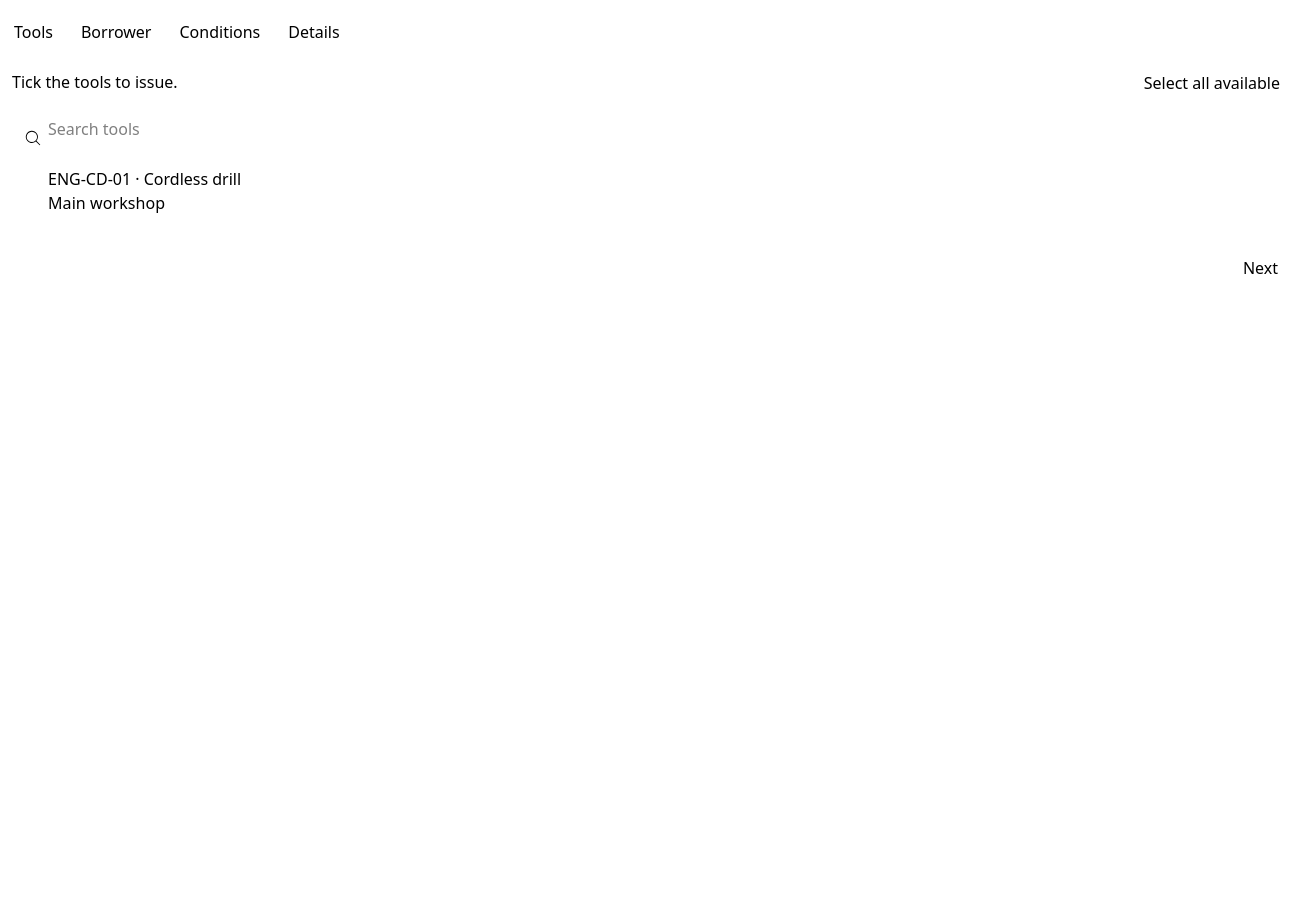
BulkIssueForm borrower step › empty submit jumps to the failing step and focuses its message
This screenshot has width=1304, height=912.
Click the tab "Details" at (314, 32), box [286,12,342,52]
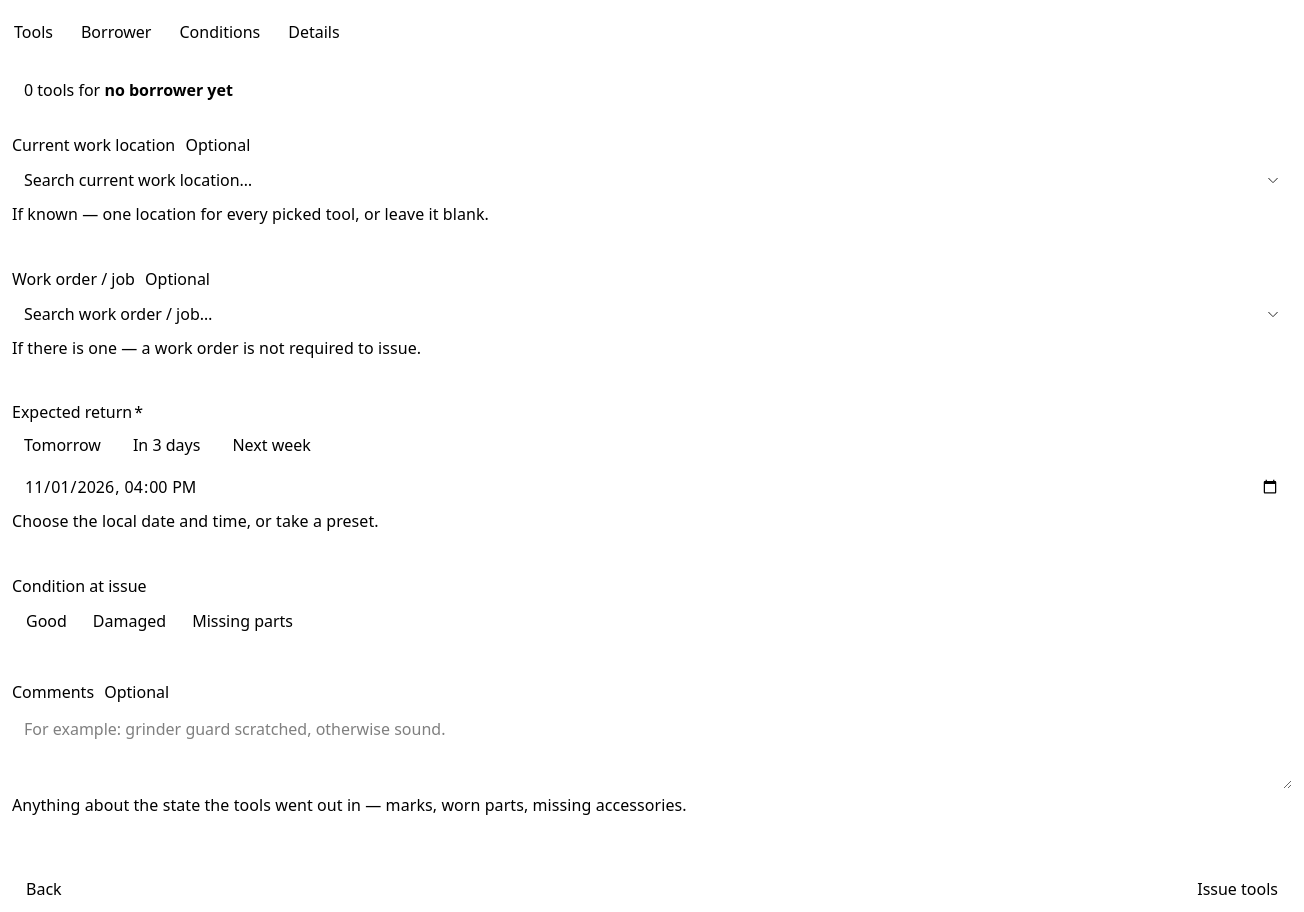
Click the button "Issue tools" at (1238, 890), box [1183,872,1292,908]
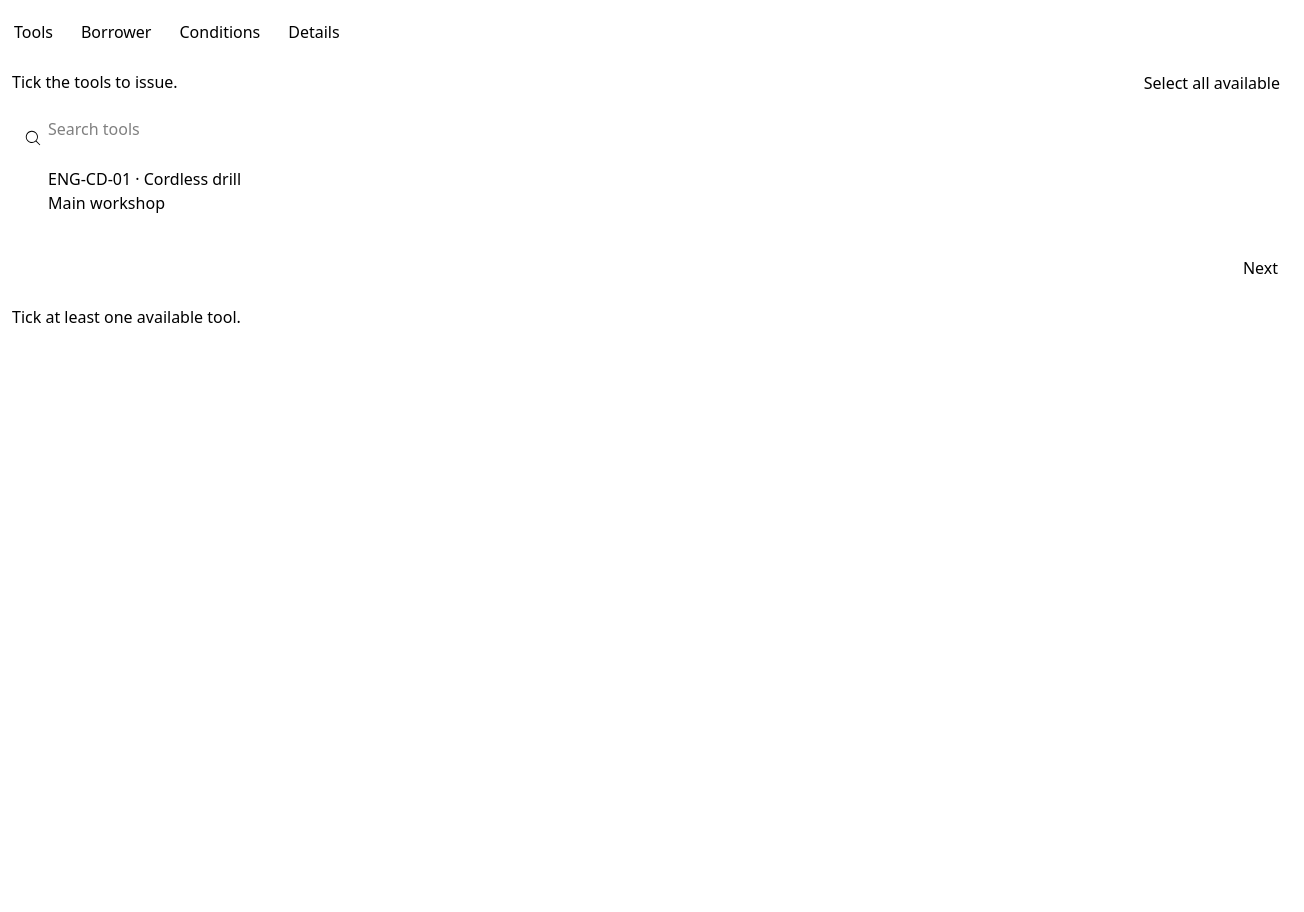
Result: the message reads "Tick at least one available tool." at [12,306,241,328]
